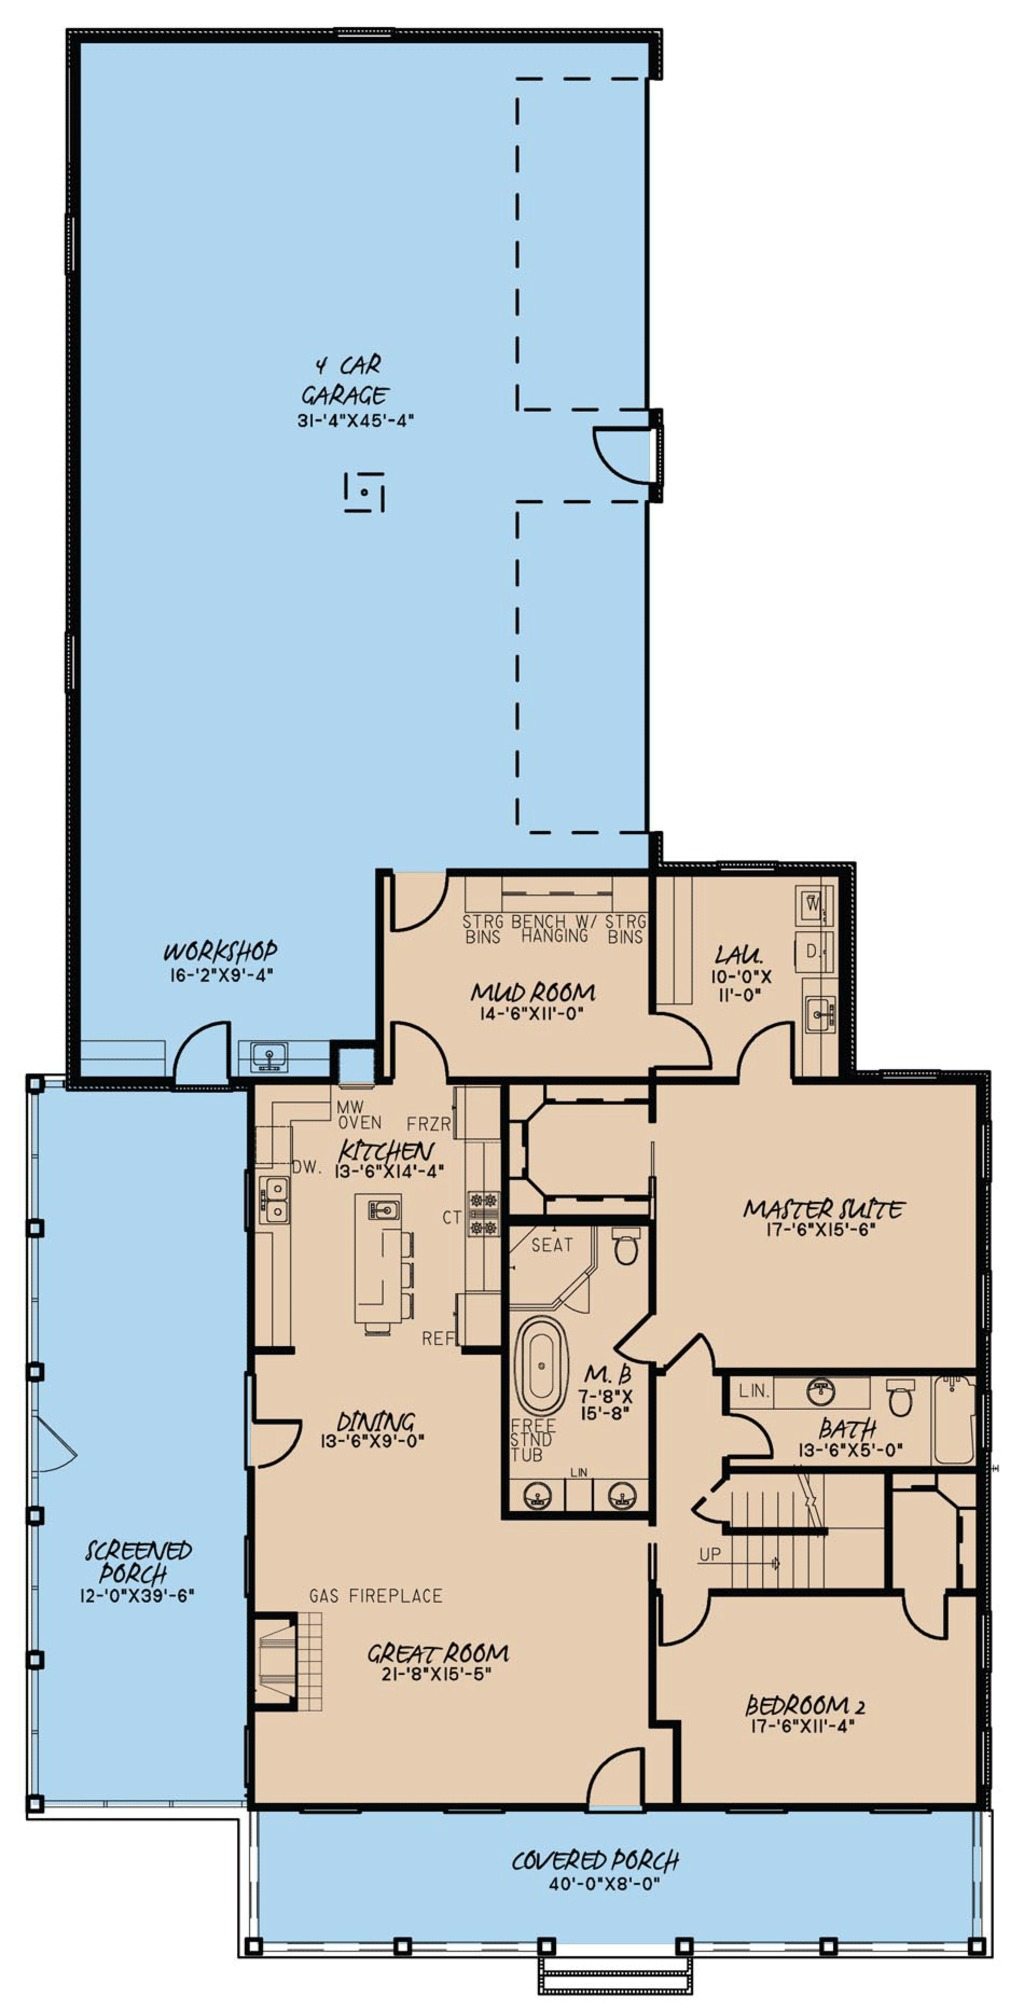door: (583, 404, 694, 503), (549, 1728, 666, 1815), (713, 1006, 805, 1106), (141, 1006, 242, 1096), (26, 1414, 101, 1512), (630, 990, 704, 1077), (388, 865, 466, 943), (716, 1400, 798, 1475), (664, 1326, 738, 1403), (893, 1582, 963, 1650), (385, 1012, 451, 1084), (664, 1584, 729, 1656), (251, 1407, 319, 1471), (603, 1309, 666, 1378)
large_sink: (876, 1365, 938, 1454), (607, 1219, 666, 1281)
small_sink: (513, 1459, 654, 1515), (794, 1360, 869, 1425)
tub: (507, 1309, 566, 1441)
twin_sink: (242, 1151, 310, 1239)
